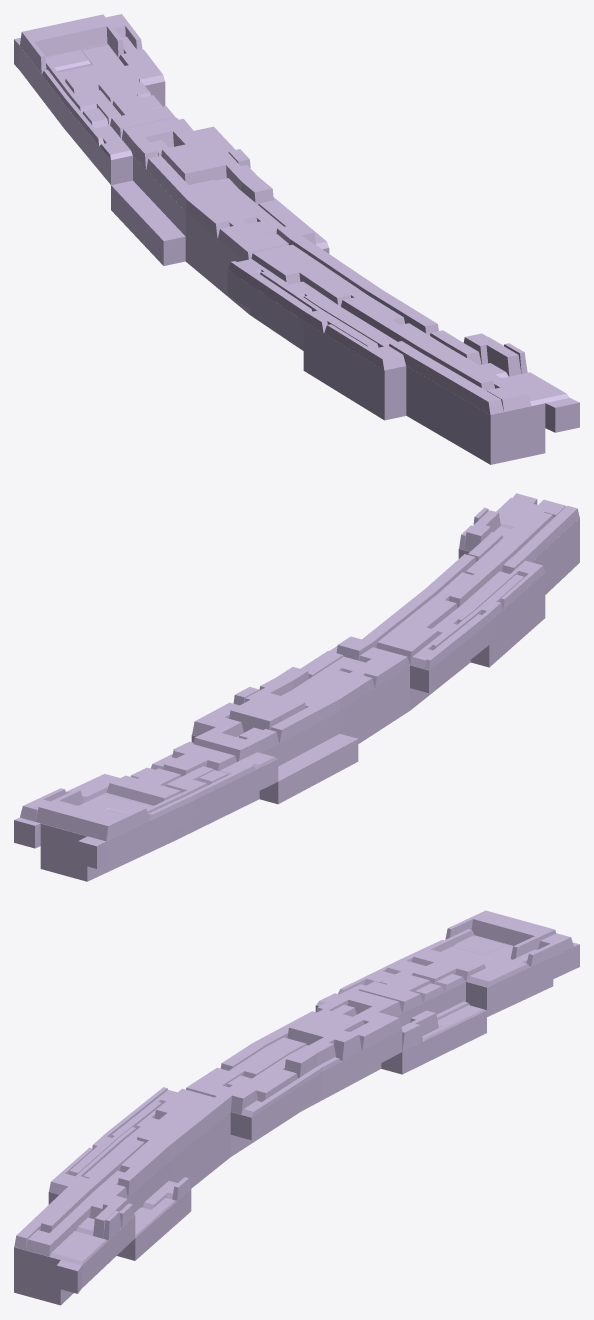
The model's file is ParedIzq.fbx.
3 views of the same model, one above another, from view 1: azimuth 30°, elevation 25°; view 2: azimuth 150°, elevation 25°; view 3: azimuth 330°, elevation 25° (orthographic). The views are drawn at different scales.
Visible parts, largest first — view 1: ParedNueva; view 2: ParedNueva; view 3: ParedNueva.
Boxes of the visible parts, x1,y1,x2,y2 form: ParedNueva: [14, 14, 579, 464]; ParedNueva: [14, 493, 579, 881]; ParedNueva: [14, 910, 579, 1305].
Size of the model in its own units: 18.24 by 6.98 by 93.34.
